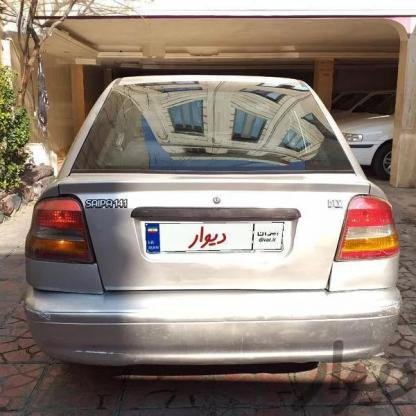Car: (25, 68, 397, 385), (331, 90, 416, 178)
